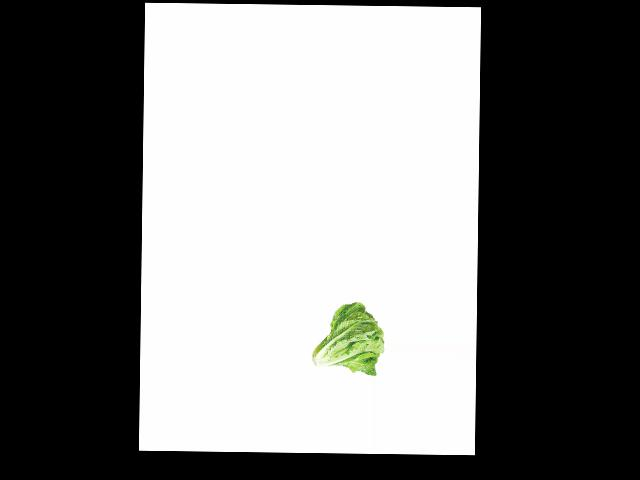lettuce: (308, 300, 385, 374)
